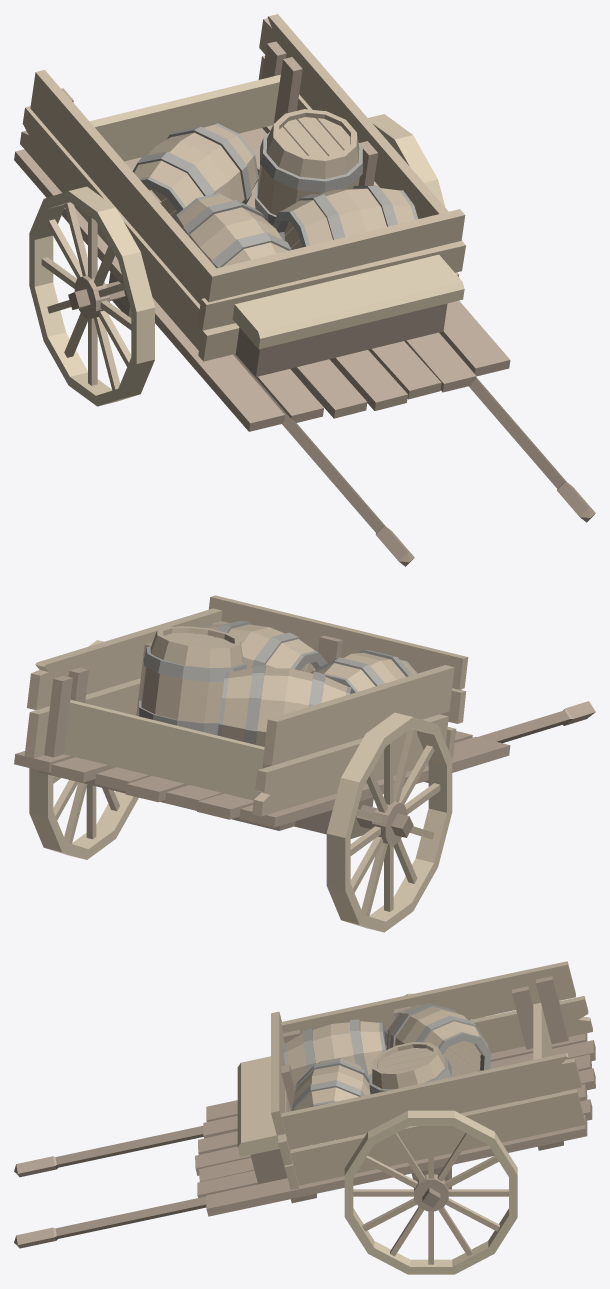
File: carretilla2.glb
3 views of the same model, one above another, from view 1: azimuth 30°, elevation 25°; view 2: azimuth 150°, elevation 25°; view 3: azimuth 270°, elevation 25° (orthographic). The views are drawn at different scales.
Parts seen in each view (by area): view 1: object9, object35, object1, object40, object20, object39, object34, object21, object10, object38, object6, object32 (+14 smaller); view 2: object34, object35, object1, object40, object39, object6, object32, object20, object21, object31, object38, object10 (+18 smaller); view 3: object21, object24, object31, object1, object7, object8, object39, object9, object41, object40, object38, object32 (+13 smaller).
Boxes of the visible parts, x1,y1,x2,y2 form: object9: [232, 254, 464, 376]; object35: [29, 186, 154, 406]; object1: [30, 70, 216, 304]; object40: [255, 109, 362, 225]; object20: [203, 209, 465, 302]; object39: [132, 123, 258, 218]; object34: [89, 74, 280, 161]; object21: [259, 14, 448, 218]; object10: [14, 149, 284, 431]; object38: [273, 185, 418, 249]; object6: [41, 202, 131, 390]; object32: [20, 106, 201, 350]; object34: [64, 699, 264, 800]; object35: [326, 712, 452, 932]; object1: [262, 665, 454, 765]; object40: [139, 626, 246, 735]; object39: [217, 665, 351, 746]; object6: [350, 728, 440, 916]; object32: [252, 714, 448, 816]; object20: [208, 595, 468, 689]; object21: [27, 608, 222, 710]; object31: [29, 640, 138, 859]; object38: [201, 621, 327, 672]; object10: [239, 736, 510, 827]; object21: [281, 1053, 581, 1149]; object24: [290, 1089, 585, 1185]; object31: [344, 1110, 517, 1274]; object1: [281, 961, 575, 1033]; object7: [353, 1126, 508, 1264]; object8: [206, 1115, 587, 1216]; object39: [386, 1003, 491, 1076]; object9: [237, 1056, 287, 1184]; object41: [283, 1019, 387, 1085]; object40: [369, 1042, 460, 1113]; object38: [292, 1057, 370, 1145]; object32: [470, 996, 592, 1053].
Bounding box in the file's own units: 1.8 × 1.3 × 3.36.
